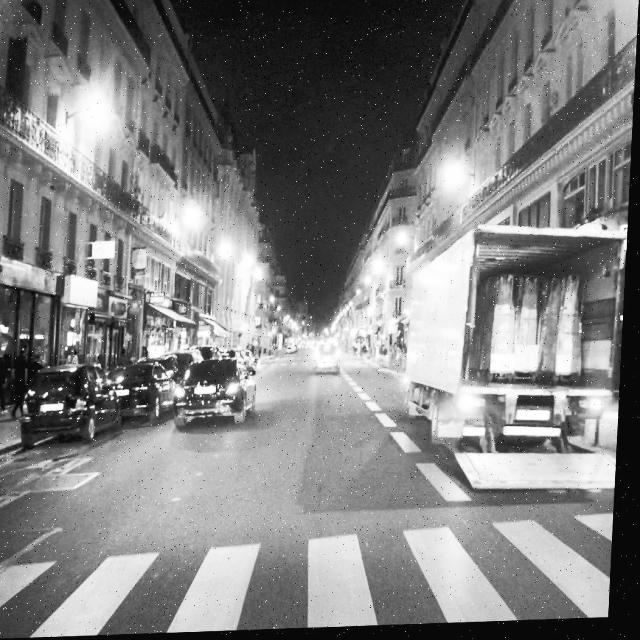Truck: (395, 224, 631, 502)
